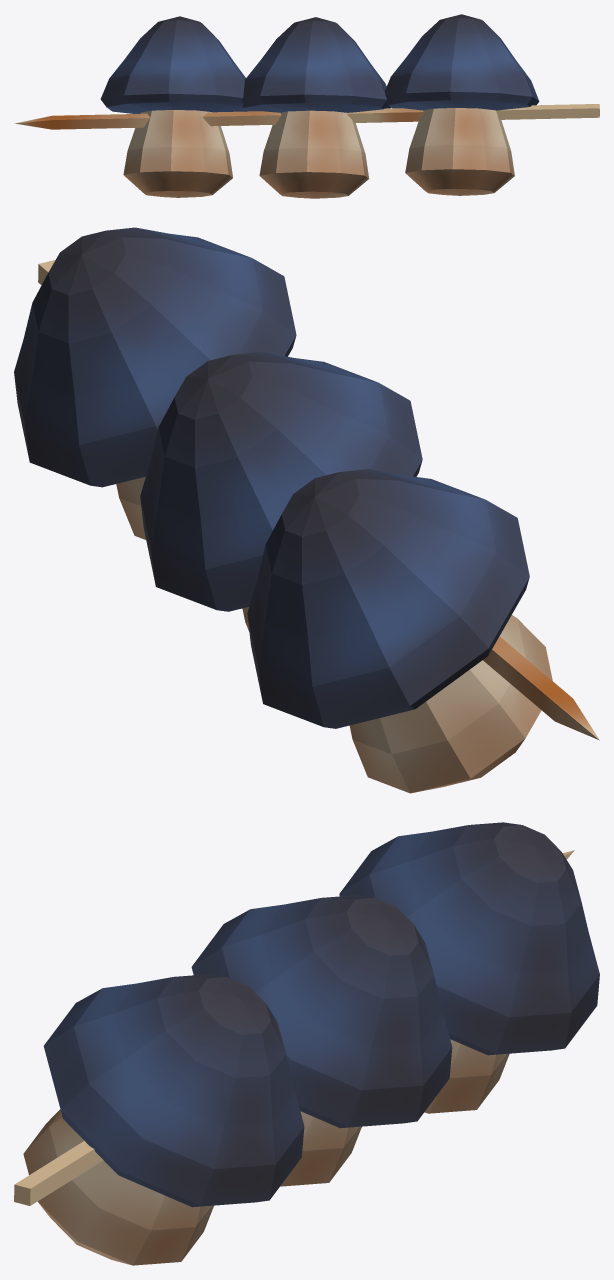
File: MushroomKkochi.fbx
3 views of the same model, one above another, from view 1: azimuth 30°, elevation 25°; view 2: azimuth 150°, elevation 25°; view 3: azimuth 270°, elevation 25° (orthographic). The views are drawn at different scales.
Parts seen in each view (by area): view 1: MushroomKkochi; view 2: MushroomKkochi; view 3: MushroomKkochi.
Boxes of the visible parts, x1,y1,x2,y2 form: MushroomKkochi: (14, 14, 599, 198); MushroomKkochi: (14, 227, 599, 793); MushroomKkochi: (14, 822, 599, 1265).
Bounding box in the file's own units: 55.74 × 36.07 × 21.33.
1 material, 1 textured.
